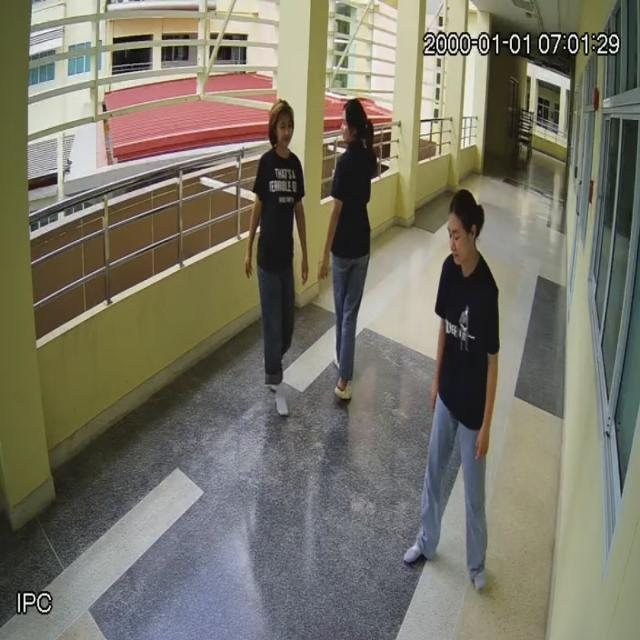normal: (405, 193, 500, 587), (244, 98, 306, 415), (316, 96, 376, 400)
